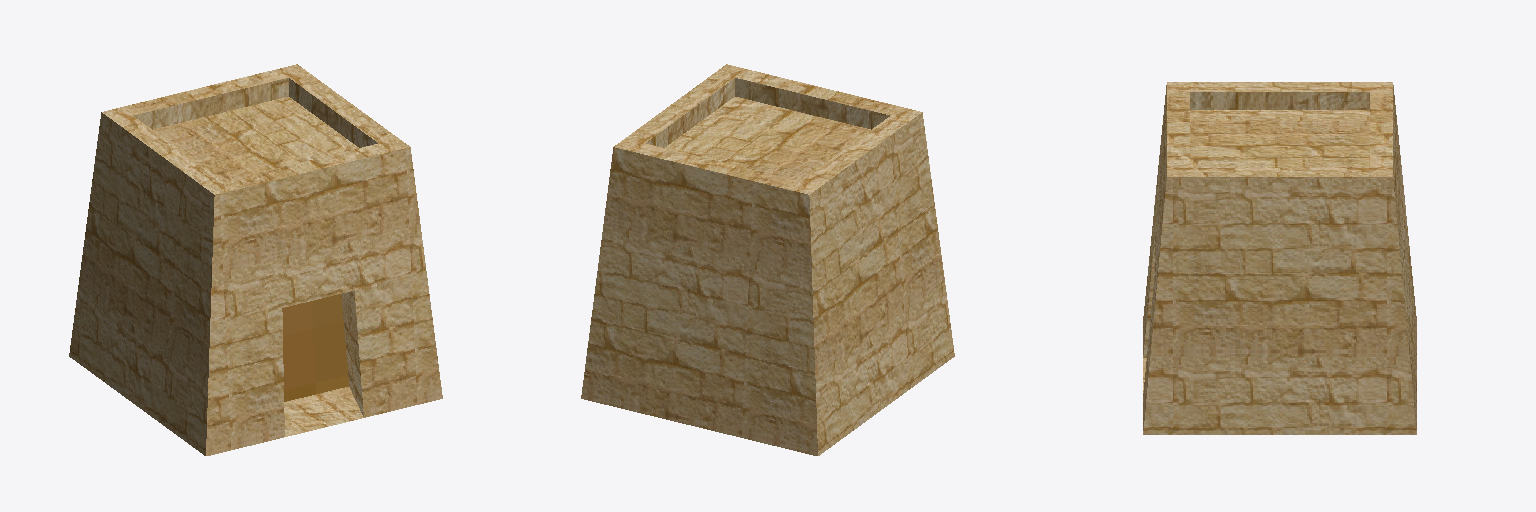
The picture shows the model from 3 angles: view 1: azimuth 30°, elevation 25°; view 2: azimuth 150°, elevation 25°; view 3: azimuth 270°, elevation 25°; orthographic projection.
Visible parts, largest first — view 1: Cube; view 2: Cube; view 3: Cube.
Part boxes in pixels (x1,y1,x2,y2): Cube: (69,64,442,455); Cube: (581,64,954,455); Cube: (1143,82,1416,434).
Bounding box in the file's own units: 0.1328 × 0.1354 × 0.1328.
Materials: 1 (1 with a texture image).